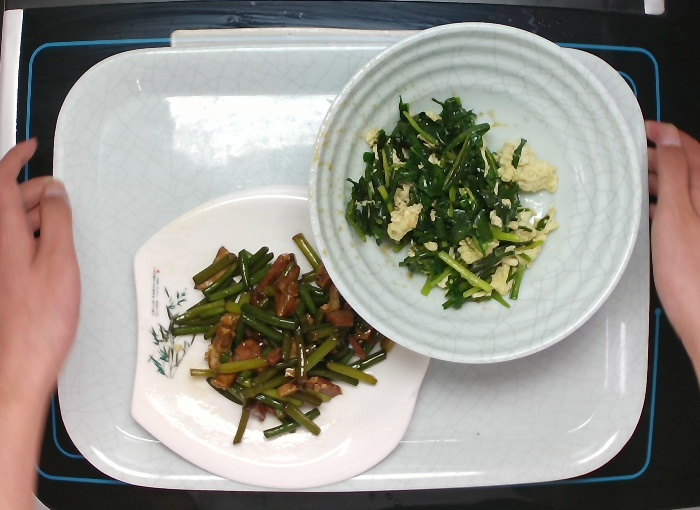JYsf-Da_Tang_Wan: (308, 20, 644, 369)
JYsf-Mian_Pan: (128, 188, 435, 492)
